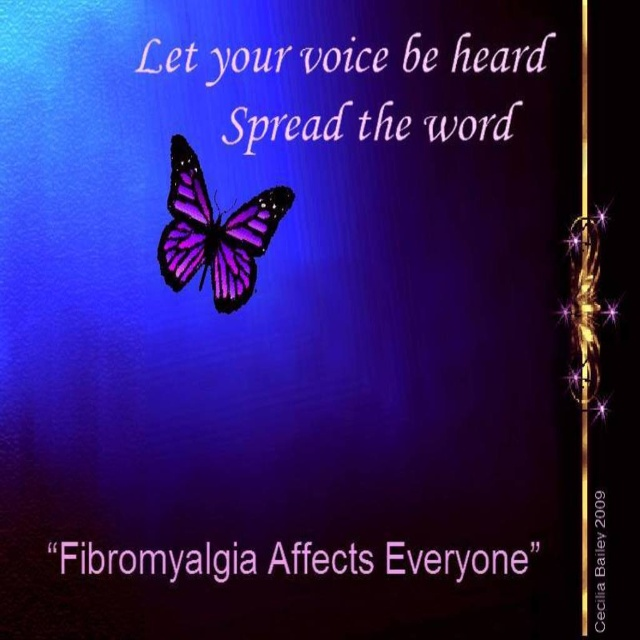Butterfly: (158, 132, 290, 310)
